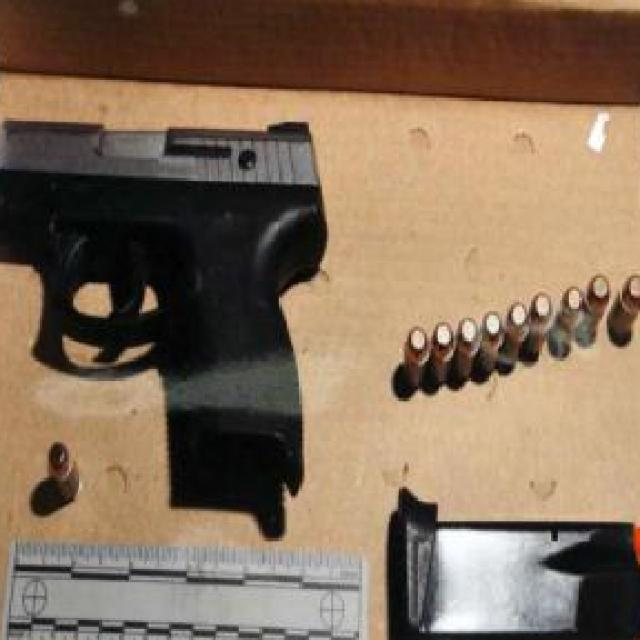pistol: (0, 109, 338, 471)
